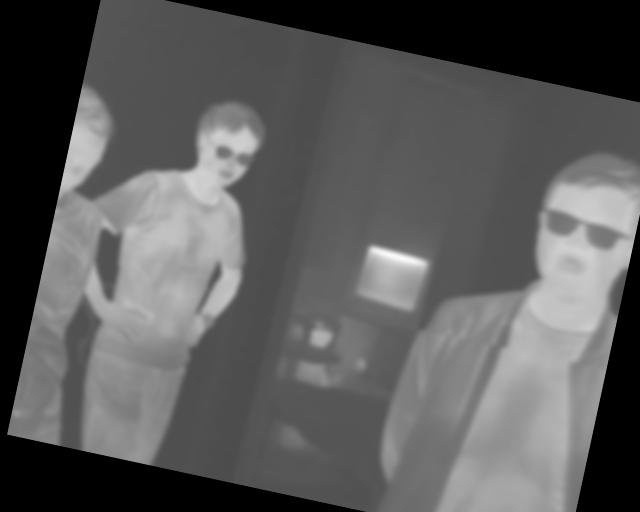face: (521, 139, 640, 307), (185, 92, 271, 194)
